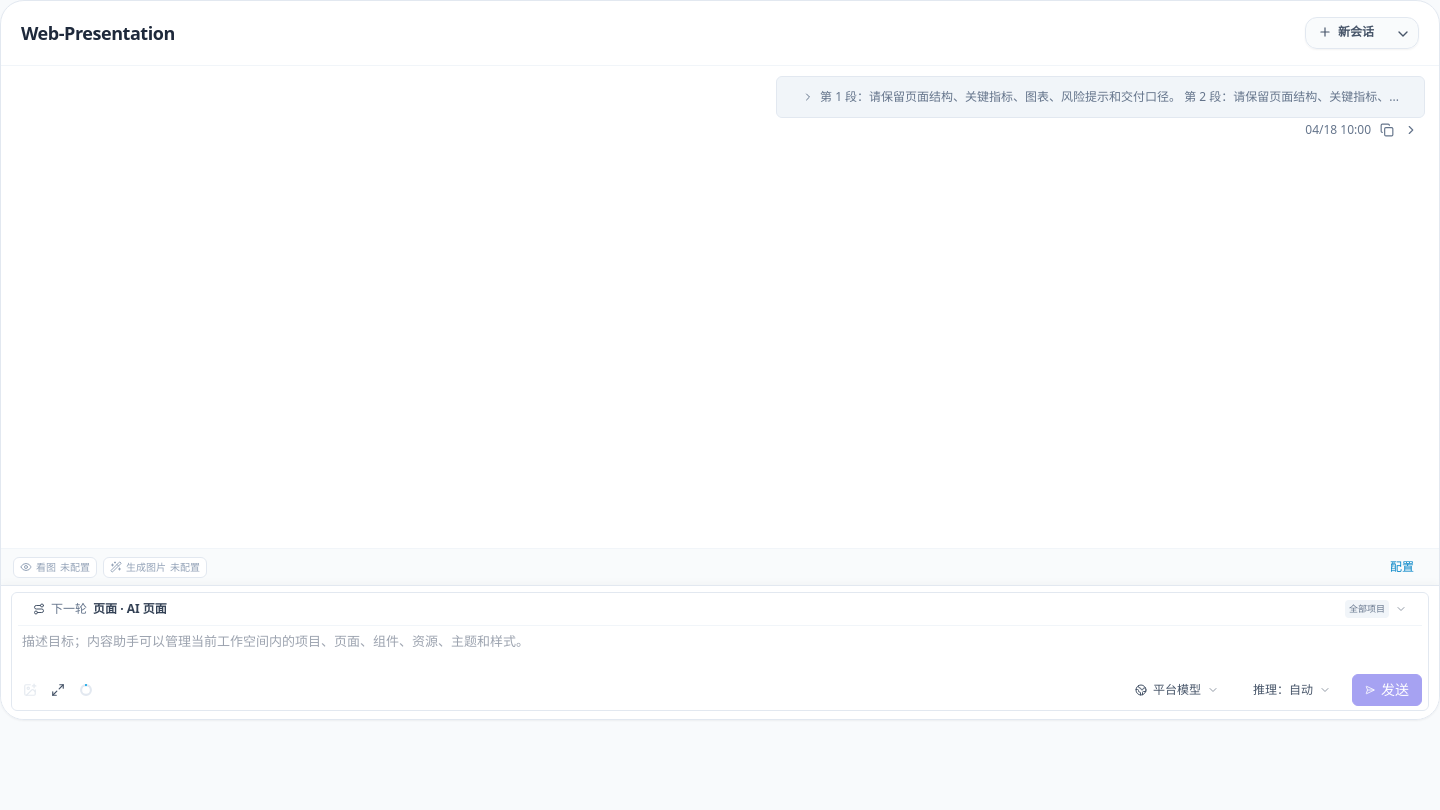
Scenario: AgentConversationPanel › 超长用户消息应默认折叠，并允许手动展开全文
Click the button with aria-label "展开用户消息": (1100, 97) [789,85,1412,109]
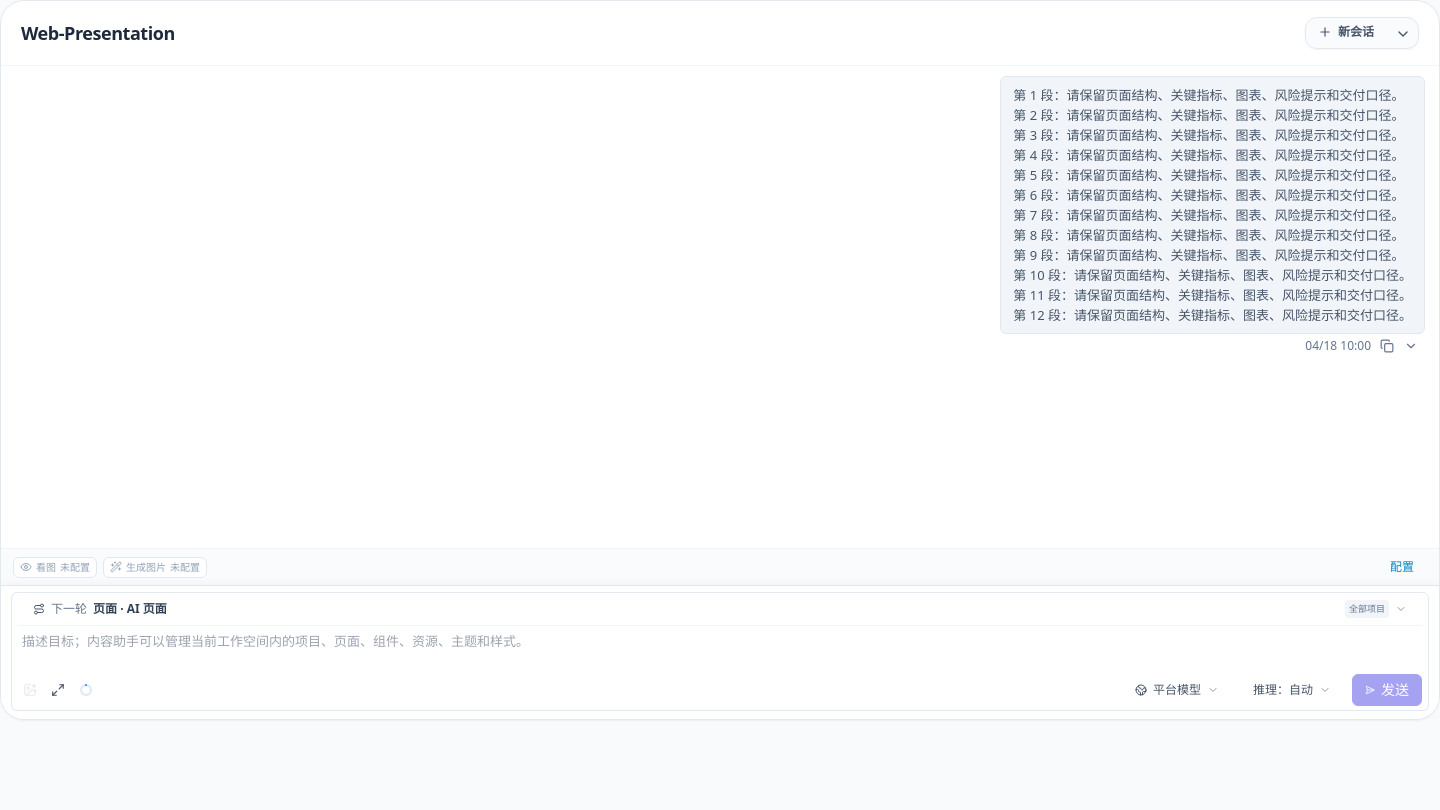
Expected: the text "第 12 段：请保留页面结构" is shown, [1013,86,1412,324]
